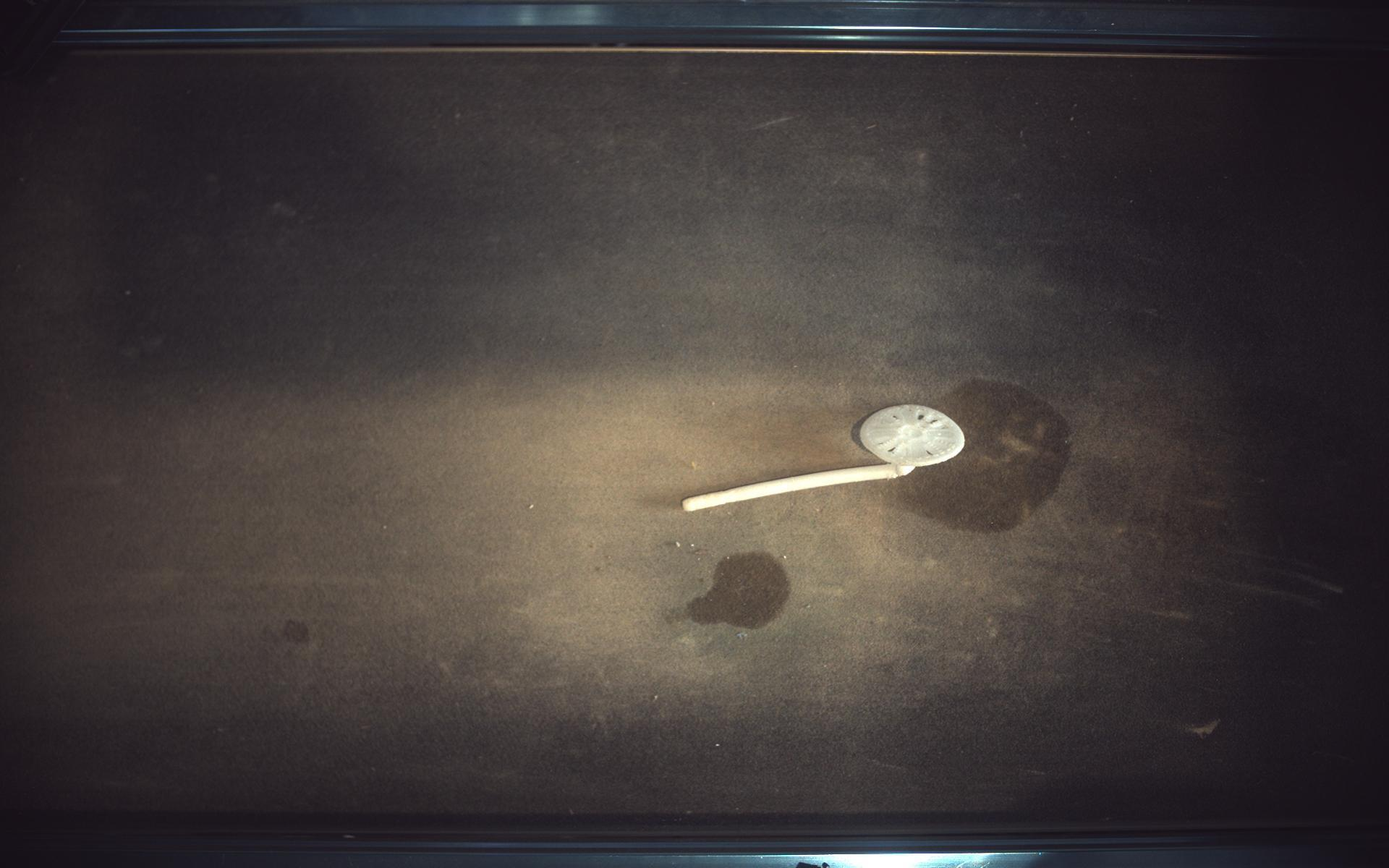plastic: (684, 404, 966, 512)
